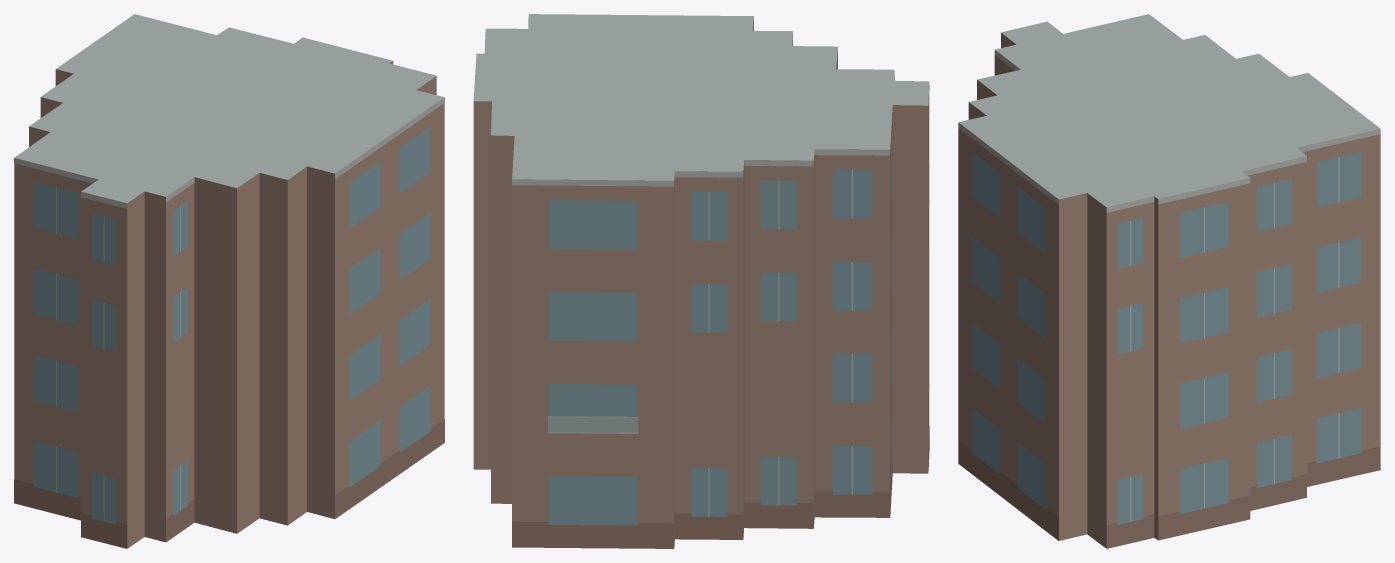
File: survey-upis-32945892.glb
3 views of the same model, side by side, from view 1: azimuth 30°, elevation 25°; view 2: azimuth 150°, elevation 25°; view 3: azimuth 270°, elevation 25° (orthographic). The views are drawn at different scales.
Visible parts, largest first — view 1: survey-upis-32945892.tmp; view 2: survey-upis-32945892.tmp; view 3: survey-upis-32945892.tmp.
Part boxes in pixels (left/top/right/bottom): survey-upis-32945892.tmp: left=14, top=14, right=444, bottom=548; survey-upis-32945892.tmp: left=473, top=14, right=929, bottom=548; survey-upis-32945892.tmp: left=958, top=14, right=1380, bottom=548.
Size of the model in its own units: 18.35 by 15.1 by 16.93.
